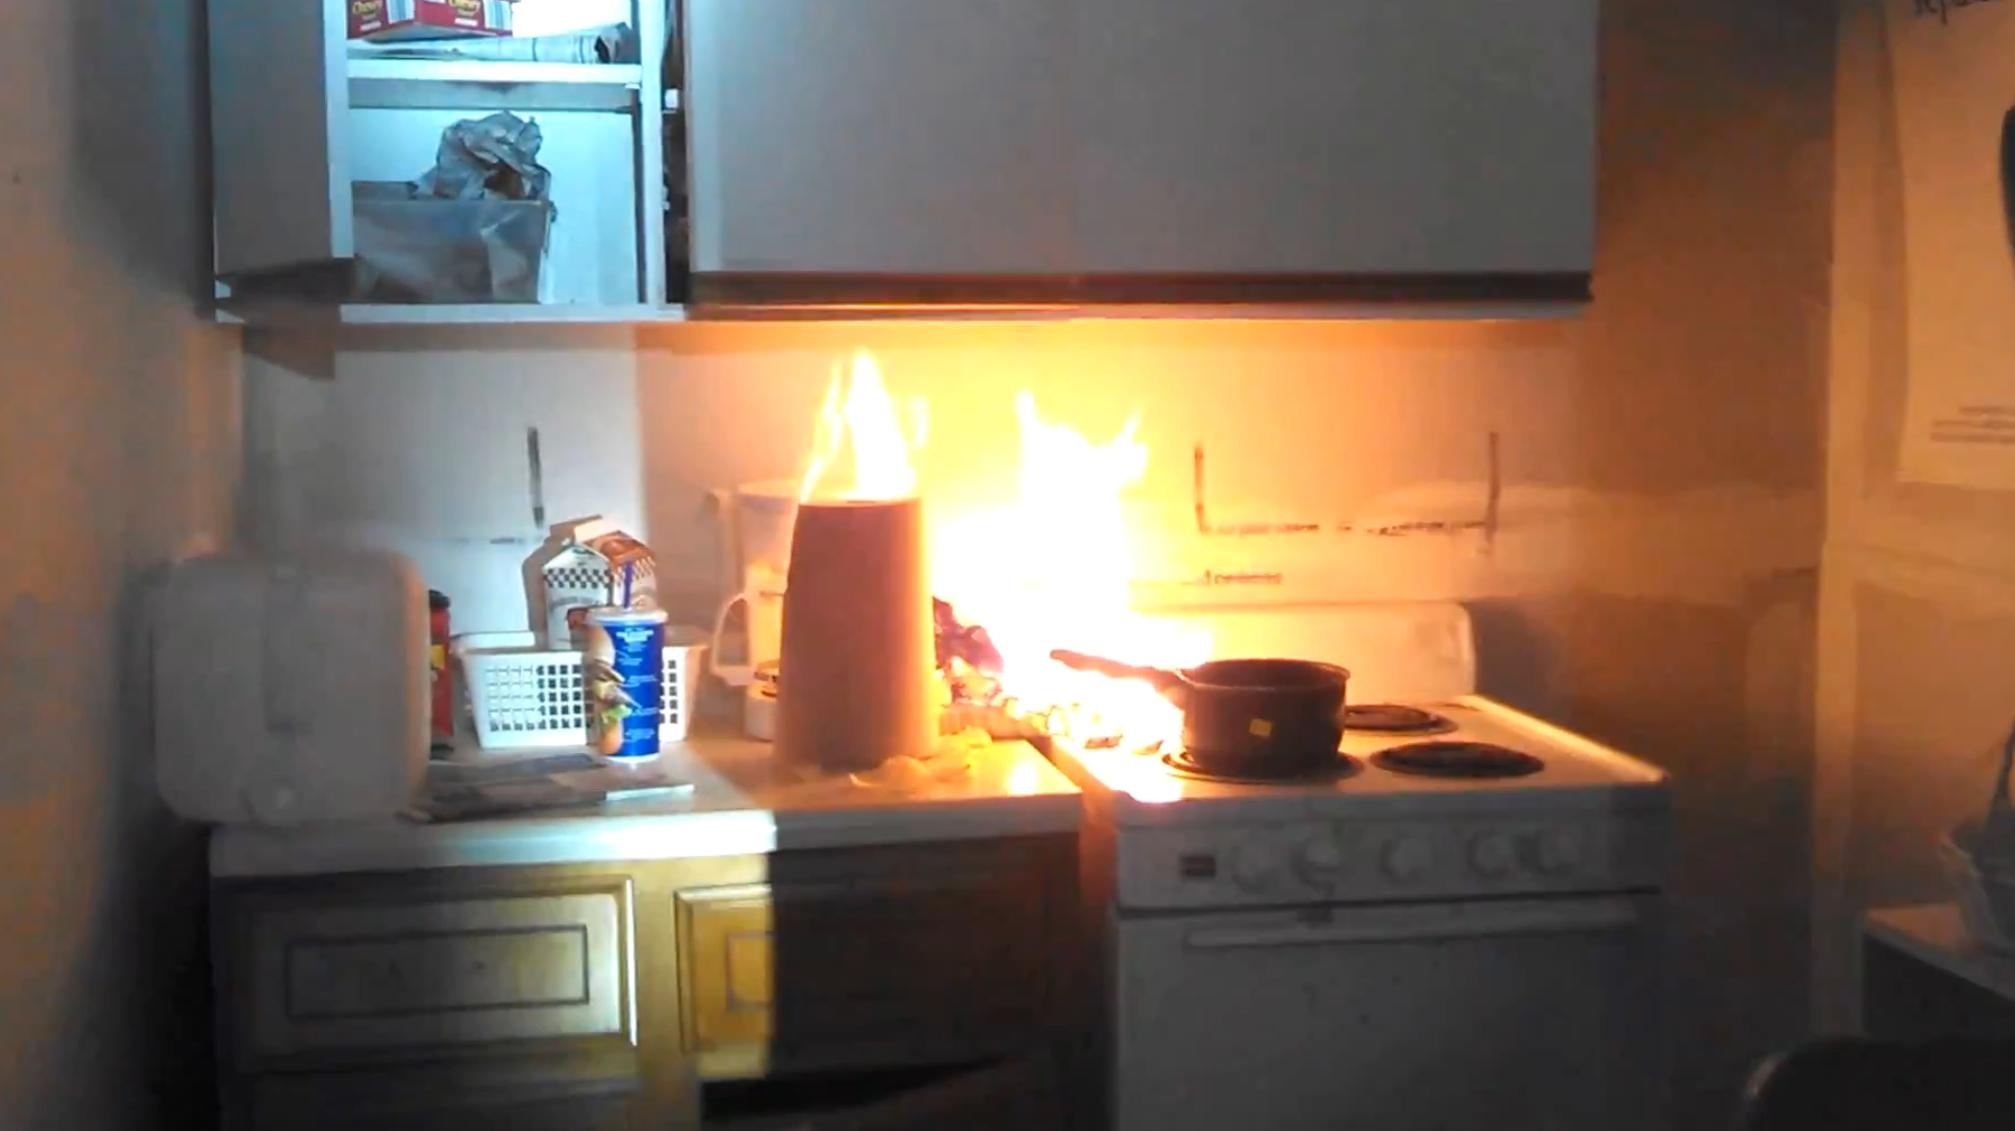fire: (822, 352, 1214, 781), (797, 349, 922, 496)
